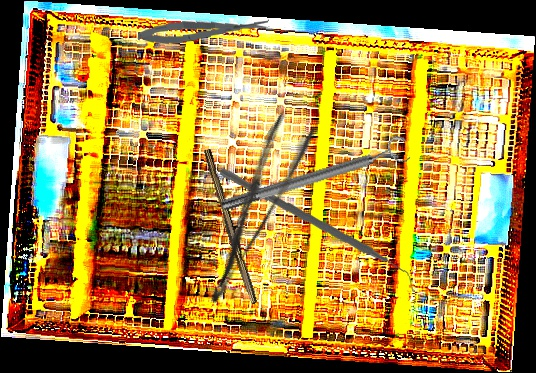Chopper: (218, 159, 416, 302)
Dressing Forceps: (179, 108, 321, 309)
Fixation Ring: (216, 133, 414, 219)
Micro Scissor: (137, 15, 271, 47)
Scalpel Handle: (198, 148, 261, 306)
